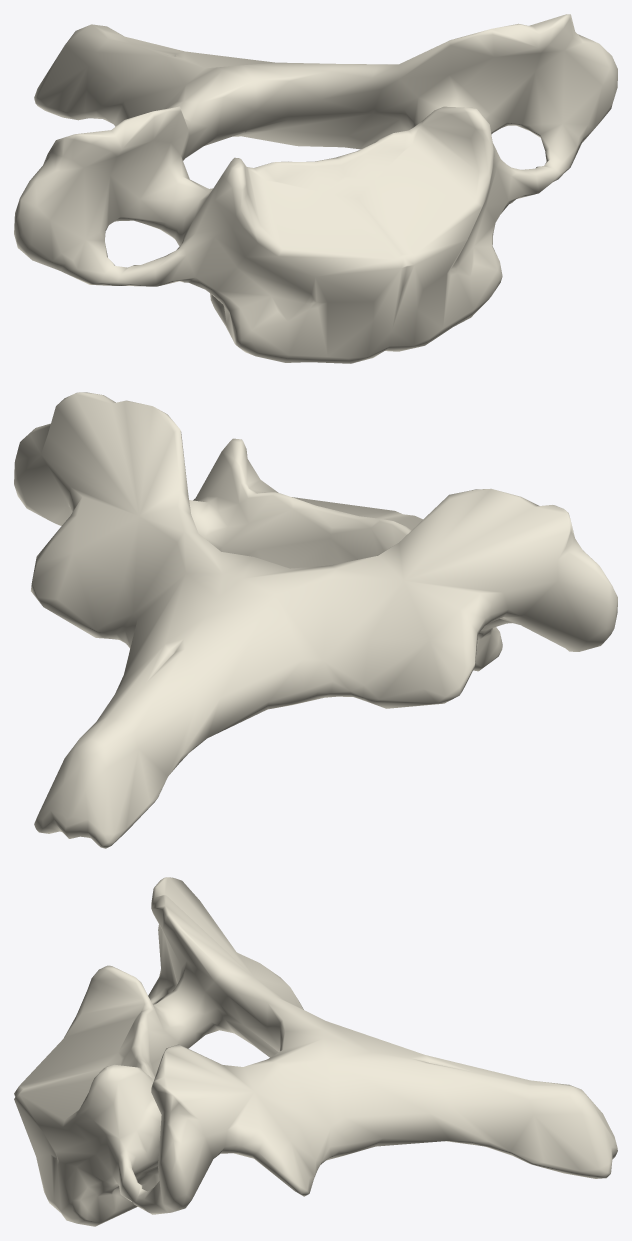
3 views of the same model, one above another, from view 1: azimuth 30°, elevation 25°; view 2: azimuth 150°, elevation 25°; view 3: azimuth 270°, elevation 25° (orthographic). The views are drawn at different scales.
Parts seen in each view (by area): view 1: ZA_63fa4563c47f6b2f; view 2: ZA_63fa4563c47f6b2f; view 3: ZA_63fa4563c47f6b2f.
Part boxes in pixels (box(x1,y1,x2,y2)): ZA_63fa4563c47f6b2f: box(14, 14, 617, 363); ZA_63fa4563c47f6b2f: box(14, 392, 617, 848); ZA_63fa4563c47f6b2f: box(14, 877, 617, 1226).
Size of the model in its own units: 0.0712 by 0.027 by 0.0703.
